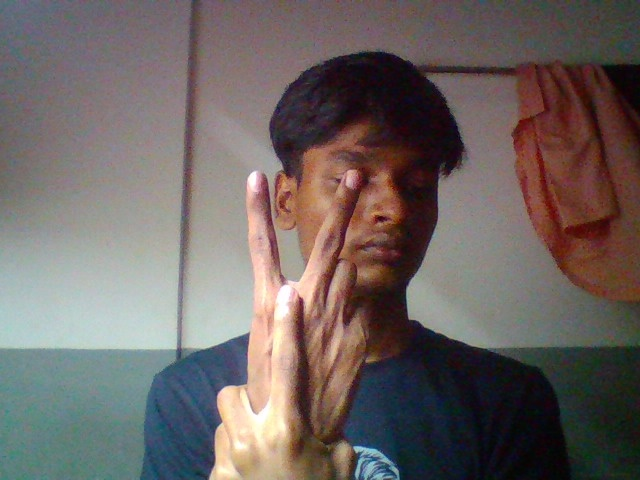Y: (193, 164, 400, 478)
